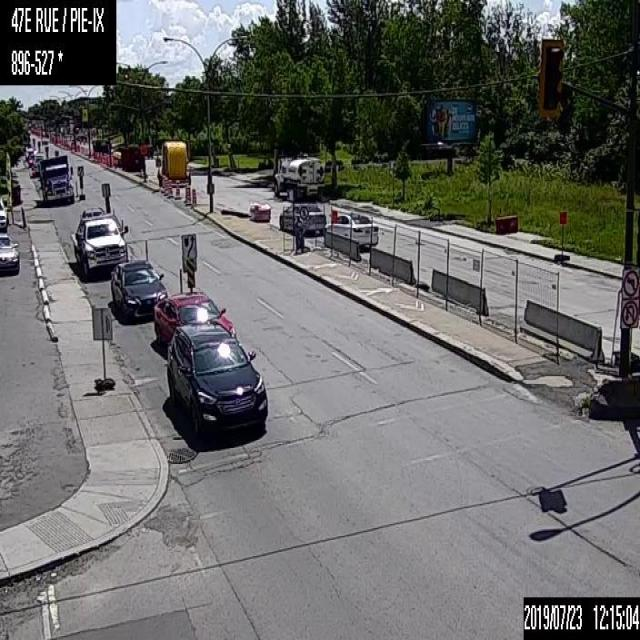construction: (178, 267, 183, 292), (190, 188, 196, 205), (184, 186, 190, 203), (175, 179, 179, 197), (168, 179, 172, 195), (145, 238, 148, 258), (164, 178, 167, 194), (120, 219, 124, 229)
vehicle: (166, 323, 268, 440), (154, 289, 235, 361), (110, 258, 170, 322), (72, 206, 130, 271), (271, 153, 326, 201), (325, 212, 379, 246), (39, 154, 73, 202), (278, 203, 326, 233), (0, 230, 20, 278), (0, 196, 9, 232), (33, 150, 44, 174), (28, 152, 35, 166)
